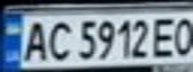1: (115, 16, 133, 60)
2: (130, 16, 154, 60)
5: (75, 16, 100, 61)
9: (93, 16, 118, 61)
A: (18, 17, 51, 63)
C: (42, 17, 75, 62)
E: (148, 15, 181, 58)
O: (169, 14, 193, 57)
